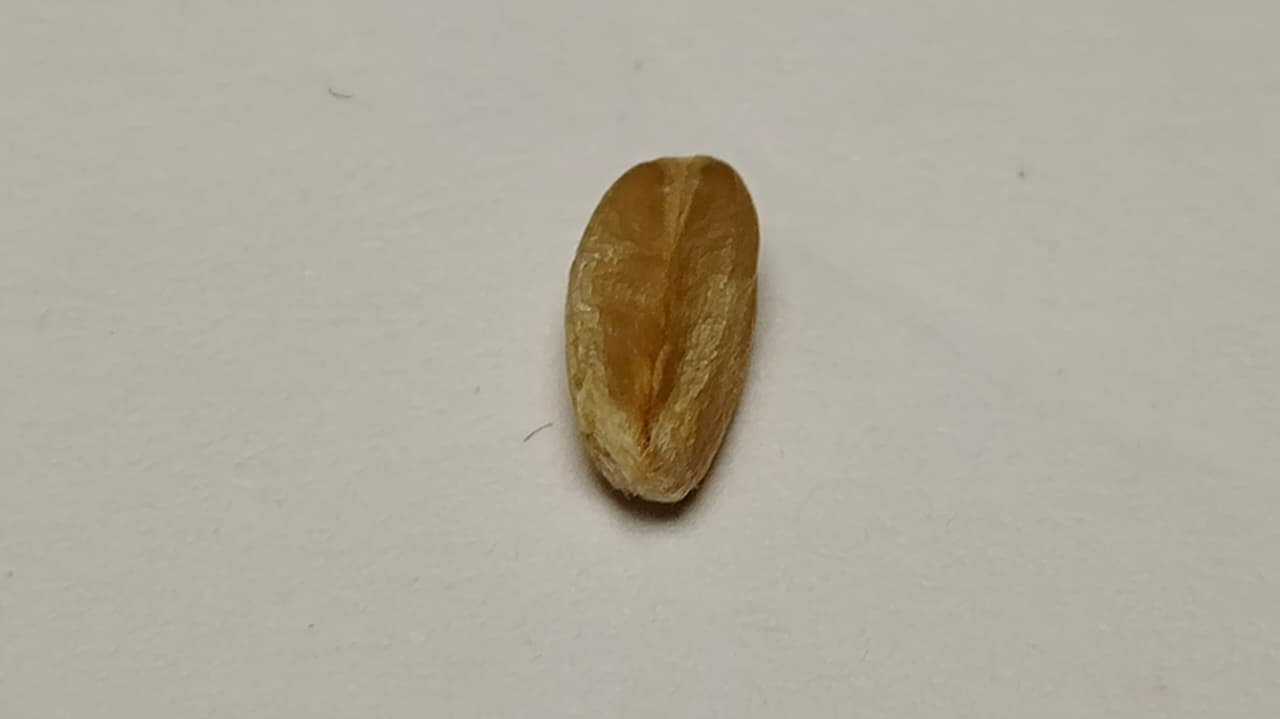healthy: (565, 157, 758, 502)
